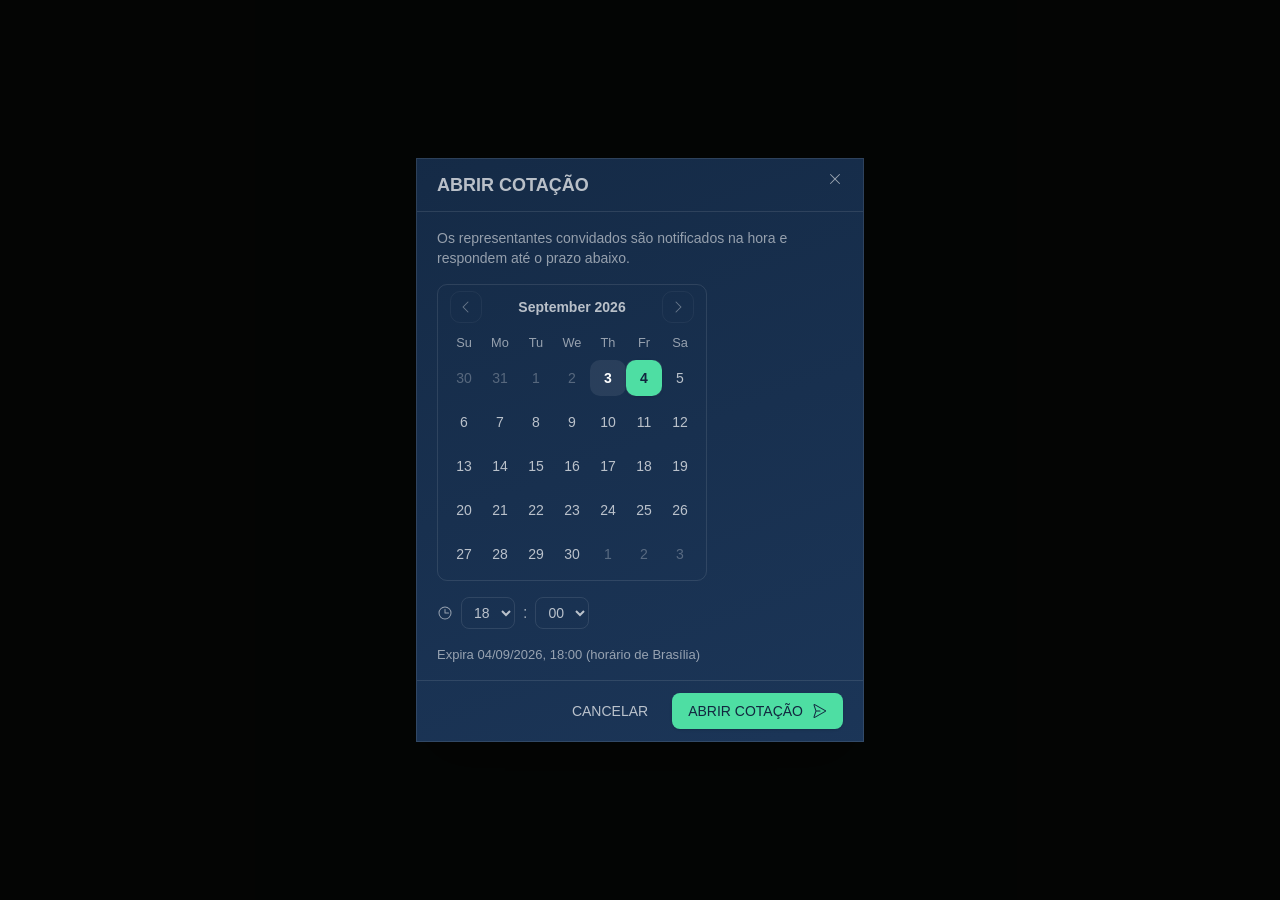
AbrirCotacaoDialog — seleção de prazo por calendário › trocar o dia no calendário atualiza a prévia do prazo
The image size is (1280, 900).
Note: 15 é um dia único no grid (sem repetição de dias externos)
Click the cell "15" at (536, 466), box [518,448,554,484]
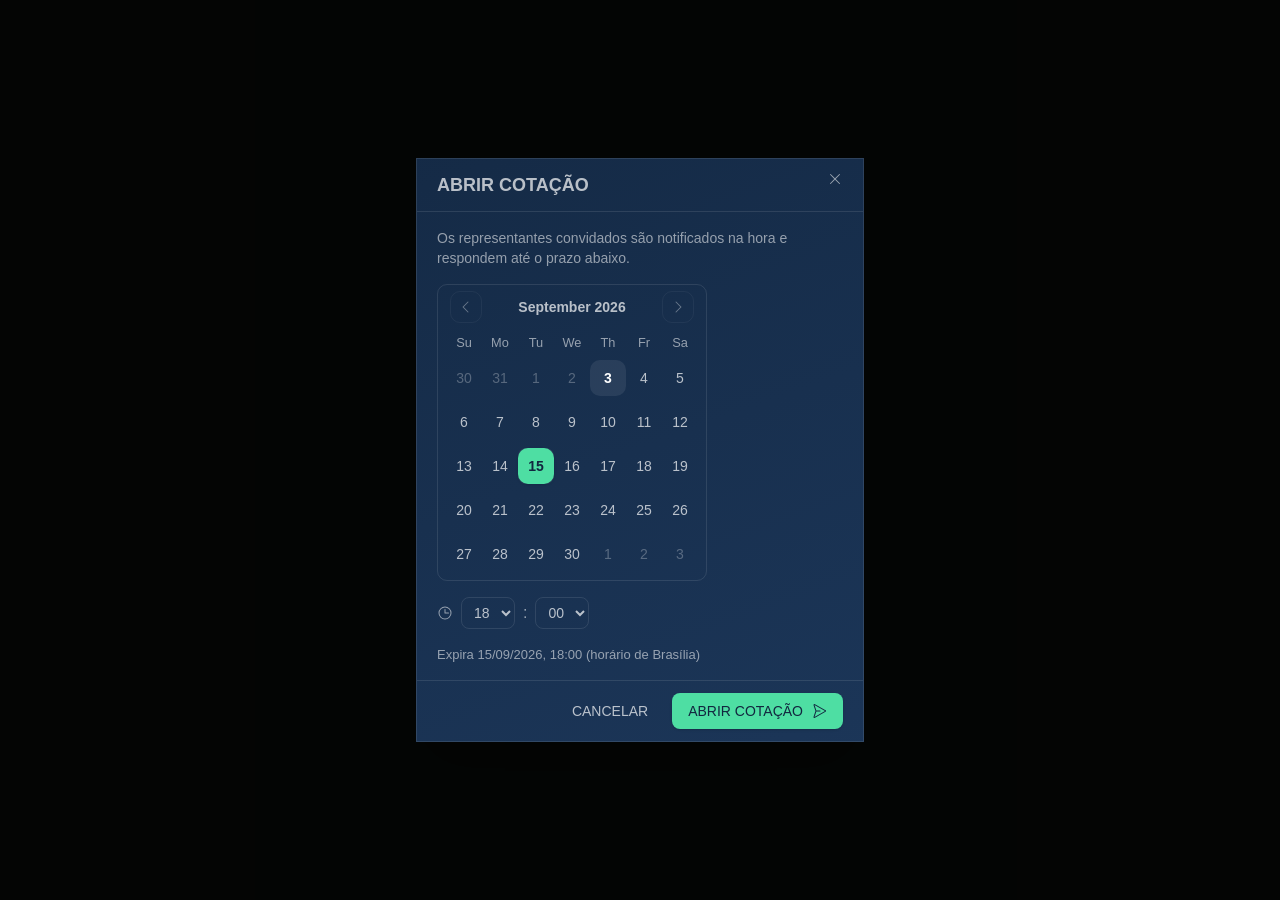
Result: the text "Expira 15/09/2026, 18:00 (horário de Brasília)" is shown at [437,647,700,662]
